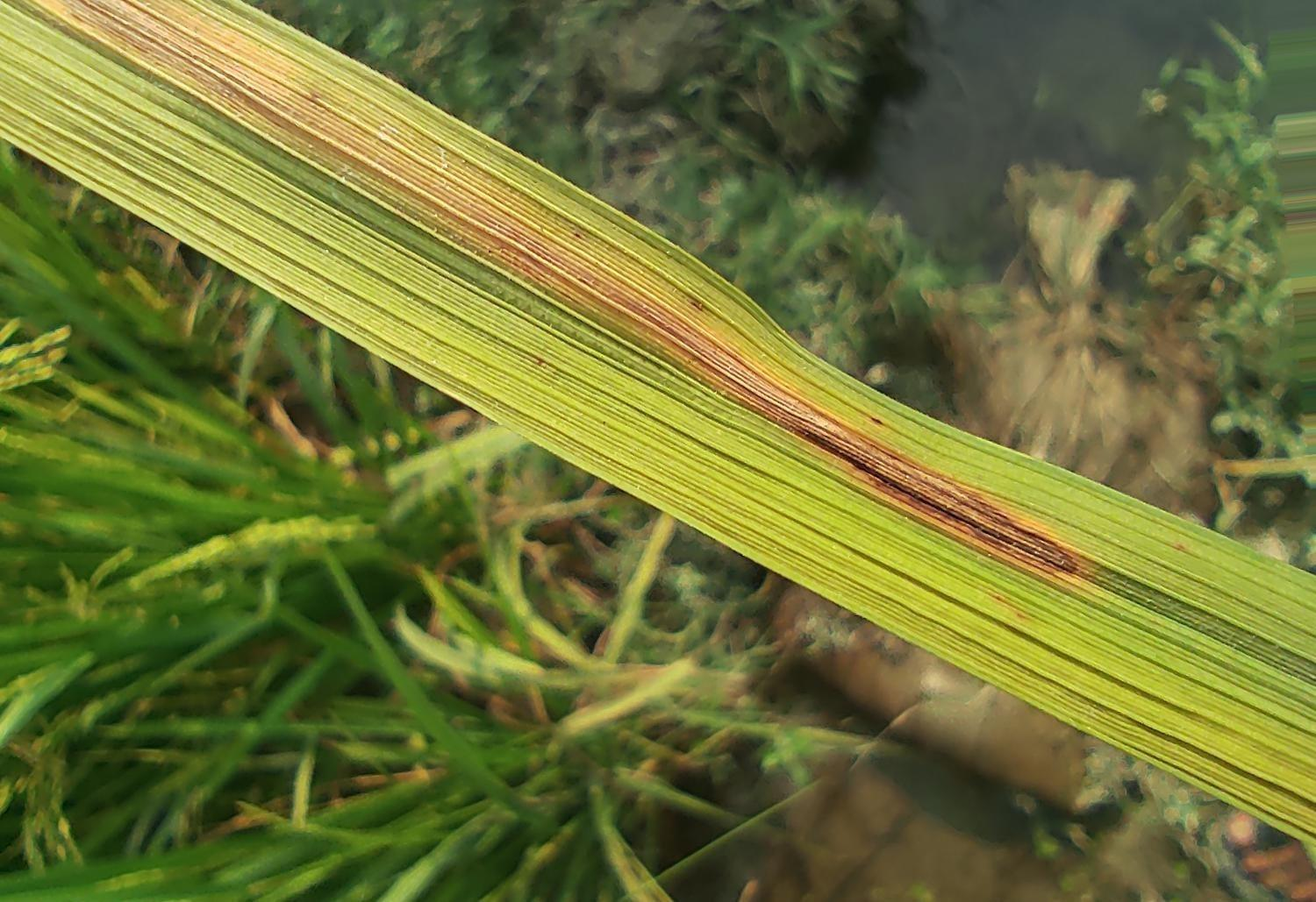LEAF: (0, 0, 1315, 842)
LEAF BLAST: (637, 299, 1098, 591)
